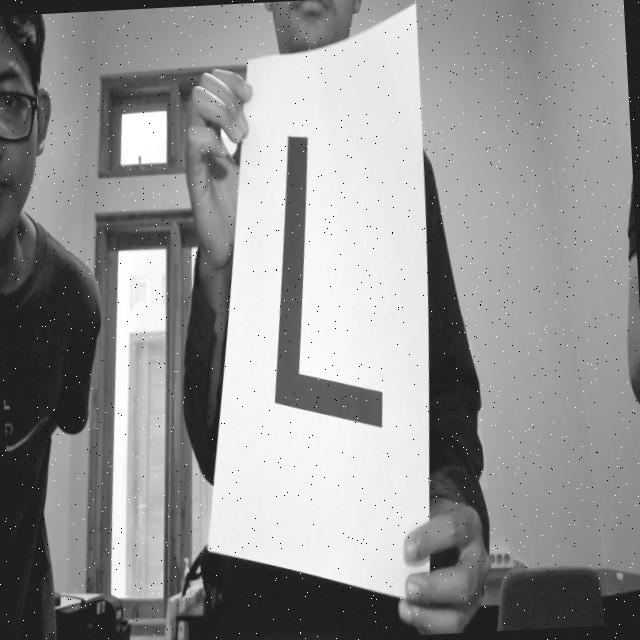l: (254, 126, 396, 452)
